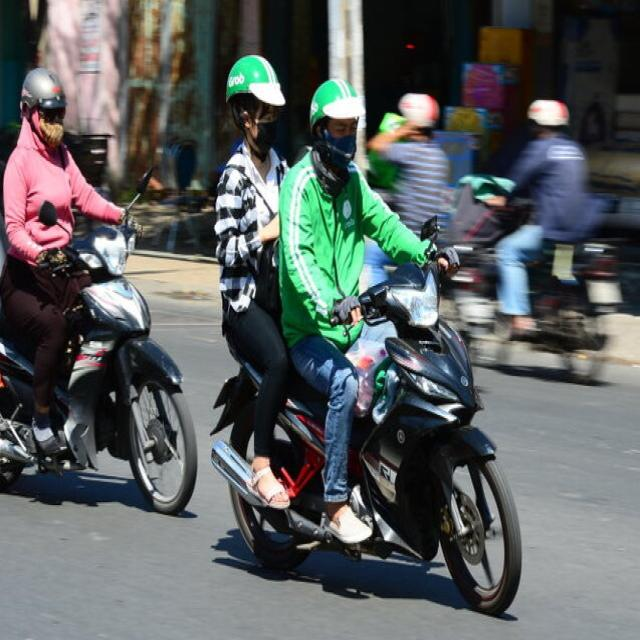1-2-helmet: (225, 53, 287, 106), (310, 79, 365, 131)
